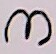sum: (1, 1, 56, 51)
